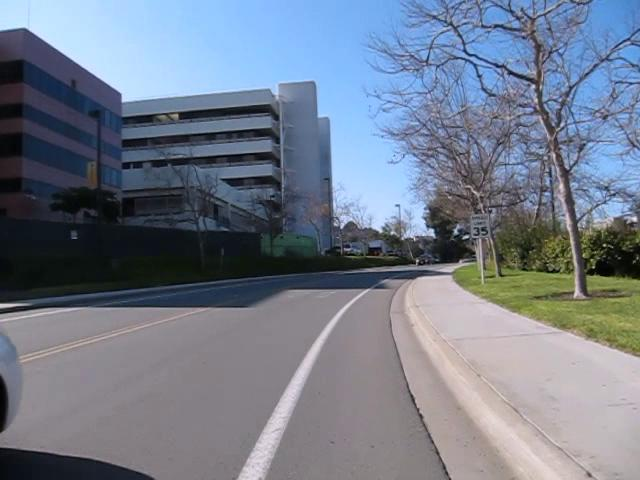speedLimit35: (469, 212, 491, 239)
